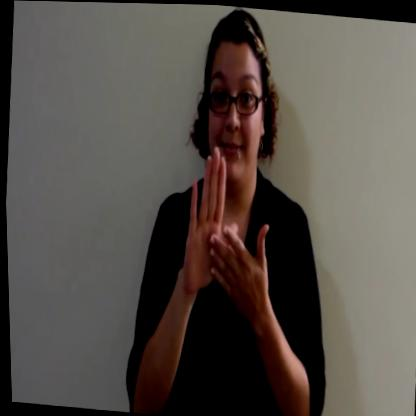NiceToMeetYou: (176, 133, 287, 348)
